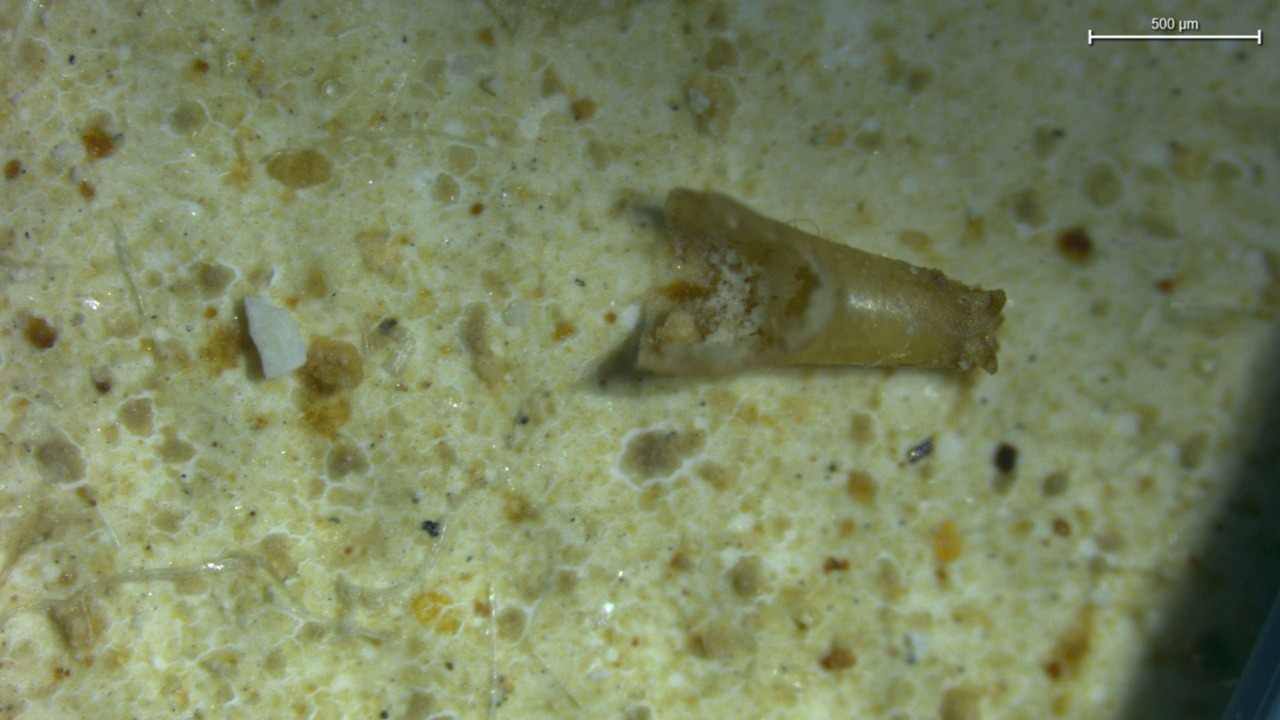microplastic_fragment: (637, 189, 1006, 375), (244, 296, 306, 378)
